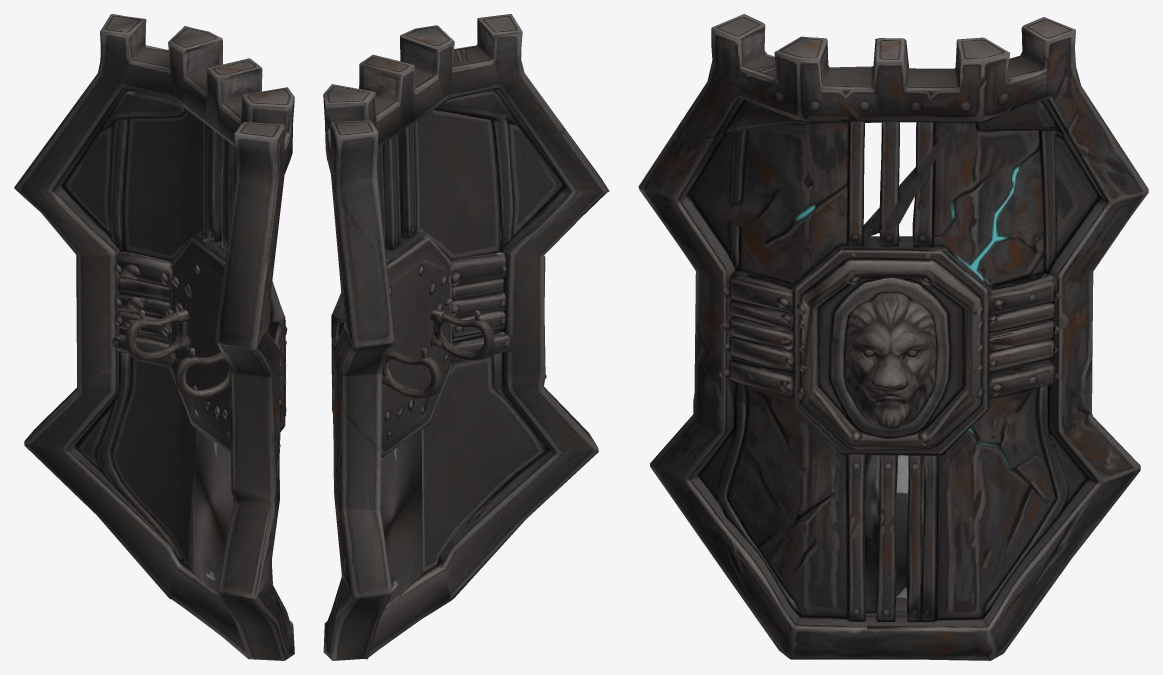
File: korrath_shield.glb
3 views of the same model, side by side, from view 1: azimuth 30°, elevation 25°; view 2: azimuth 150°, elevation 25°; view 3: azimuth 270°, elevation 25° (orthographic). The views are drawn at different scales.
Parts seen in each view (by area): view 1: tmp_export; view 2: tmp_export; view 3: tmp_export.
Part boxes in pixels (box(x1,y1,x2,y2)): tmp_export: box(14, 14, 294, 660); tmp_export: box(323, 14, 609, 660); tmp_export: box(638, 14, 1148, 660).
Bounding box in the file's own units: 0.3056 × 1 × 0.7674.
Materials: 1 (1 with a texture image).
